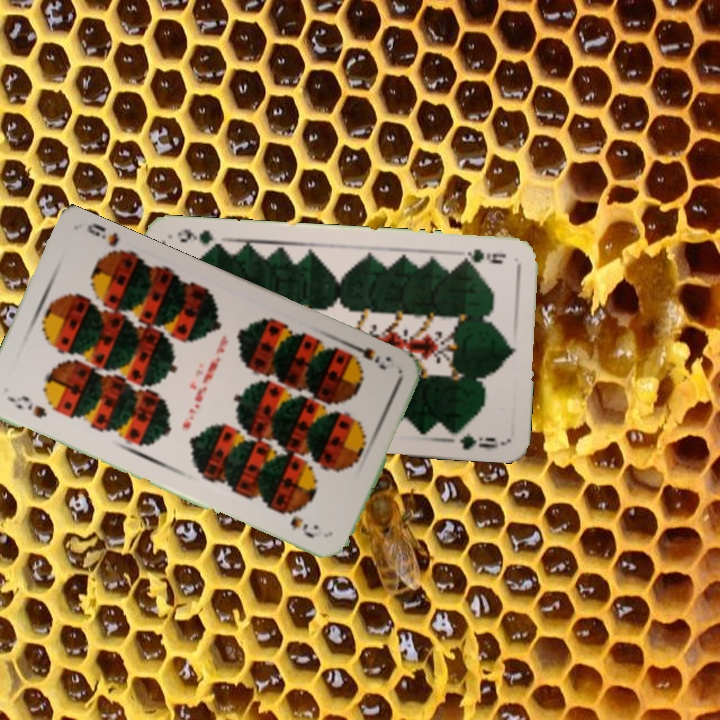G9: (455, 244, 509, 267)
S9: (341, 339, 390, 373), (4, 392, 49, 421)
